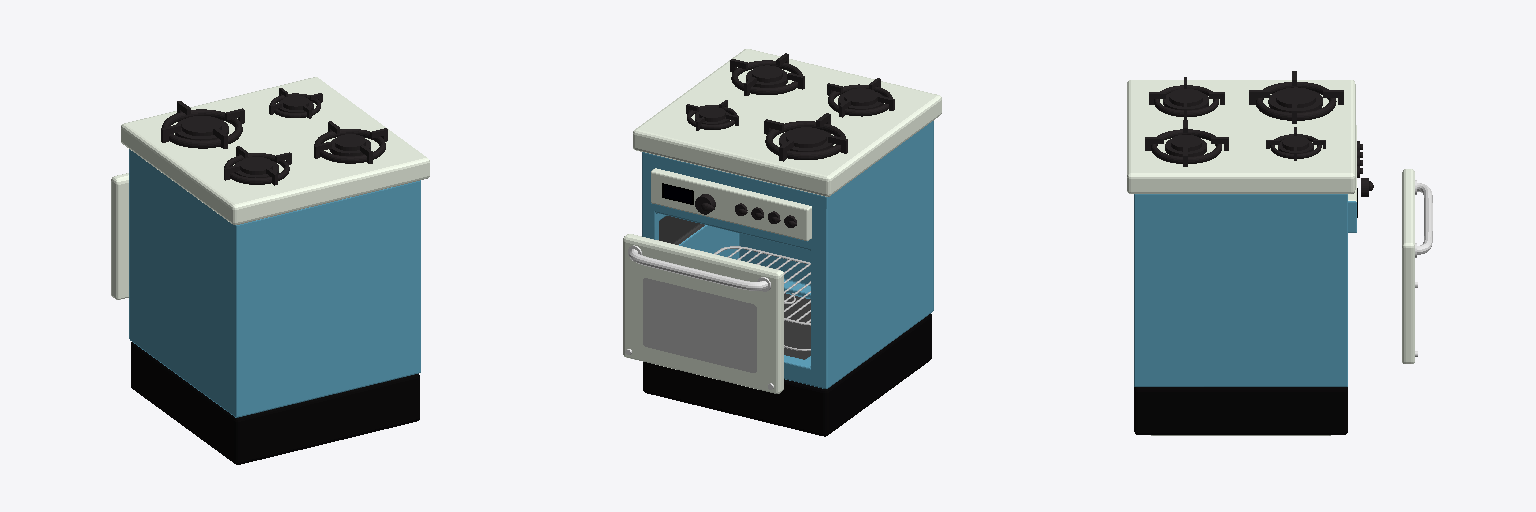
File: oven.obj
3 renders of one model, left to right at view 1: azimuth 30°, elevation 25°; view 2: azimuth 150°, elevation 25°; view 3: azimuth 270°, elevation 25°, orthographic.
Visible parts, largest first — view 1: Cube.005, Cube.003, Cube.001, Cylinder.003_Cylinder.008, Circle.007_Circle.011, Circle.005_Circle.009, Circle.004_Circle.006, Circle.006_Circle.010, Circle.003_Circle.005, Circle.001_Circle.007; view 2: Cube.005, Cube.003, Cylinder.003_Cylinder.008, Cube.001, NurbsPath, Circle.007_Circle.011, Circle.005_Circle.009, Cylinder.002_Cylinder.010, Circle.004_Circle.006, Circle.003_Circle.005, Circle.001_Circle.007, Circle.006_Circle.010; view 3: Cube.005, Cube.003, Cube.001, Cylinder.003_Cylinder.008, Circle.007_Circle.011, Circle.005_Circle.009, Circle.004_Circle.006, Circle.001_Circle.007, Circle.003_Circle.005, NurbsPath, Circle.006_Circle.010.
Boxes of the visible parts, x1=… form: Cube.005: x1=129, y1=149, x2=420, y2=417; Cube.003: x1=121, y1=77, x2=429, y2=224; Cube.001: x1=131, y1=342, x2=419, y2=464; Cylinder.003_Cylinder.008: x1=111, y1=173, x2=128, y2=299; Circle.007_Circle.011: x1=162, y1=109, x2=242, y2=148; Circle.005_Circle.009: x1=175, y1=116, x2=228, y2=140; Circle.004_Circle.006: x1=314, y1=129, x2=385, y2=163; Circle.006_Circle.010: x1=224, y1=153, x2=289, y2=184; Circle.003_Circle.005: x1=329, y1=134, x2=370, y2=155; Circle.001_Circle.007: x1=234, y1=157, x2=278, y2=177; Cube.005: x1=642, y1=121, x2=933, y2=388; Cube.003: x1=633, y1=49, x2=941, y2=196; Cylinder.003_Cylinder.008: x1=623, y1=234, x2=783, y2=393; Cube.001: x1=643, y1=314, x2=931, y2=436; NurbsPath: x1=629, y1=249, x2=767, y2=290; Circle.007_Circle.011: x1=765, y1=121, x2=845, y2=159; Circle.005_Circle.009: x1=779, y1=127, x2=833, y2=151; Cylinder.002_Cylinder.010: x1=714, y1=246, x2=810, y2=325; Circle.004_Circle.006: x1=731, y1=60, x2=802, y2=94; Circle.003_Circle.005: x1=746, y1=65, x2=787, y2=87; Circle.001_Circle.007: x1=838, y1=88, x2=883, y2=109; Circle.006_Circle.010: x1=828, y1=84, x2=892, y2=116; Cube.005: x1=1134, y1=125, x2=1356, y2=386; Cube.003: x1=1127, y1=80, x2=1355, y2=193; Cube.001: x1=1134, y1=387, x2=1347, y2=434; Cylinder.003_Cylinder.008: x1=1402, y1=169, x2=1417, y2=363; Circle.007_Circle.011: x1=1256, y1=82, x2=1336, y2=120; Circle.005_Circle.009: x1=1268, y1=87, x2=1322, y2=112; Circle.004_Circle.006: x1=1151, y1=129, x2=1221, y2=163; Circle.001_Circle.007: x1=1163, y1=89, x2=1208, y2=109; Circle.003_Circle.005: x1=1165, y1=135, x2=1206, y2=156; NurbsPath: x1=1417, y1=183, x2=1432, y2=254; Circle.006_Circle.010: x1=1154, y1=85, x2=1218, y2=116.
Size of the model in its own units: 2.14 by 2.94 by 2.86.